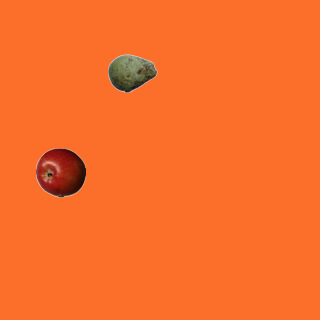Apple Braeburn: (35, 147, 85, 197)
Pear Stone: (107, 48, 157, 98)
